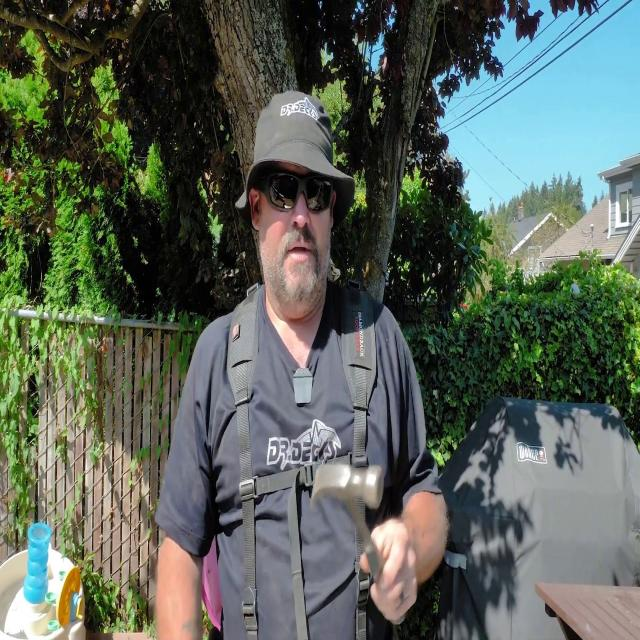hammer: (312, 466, 383, 585)
